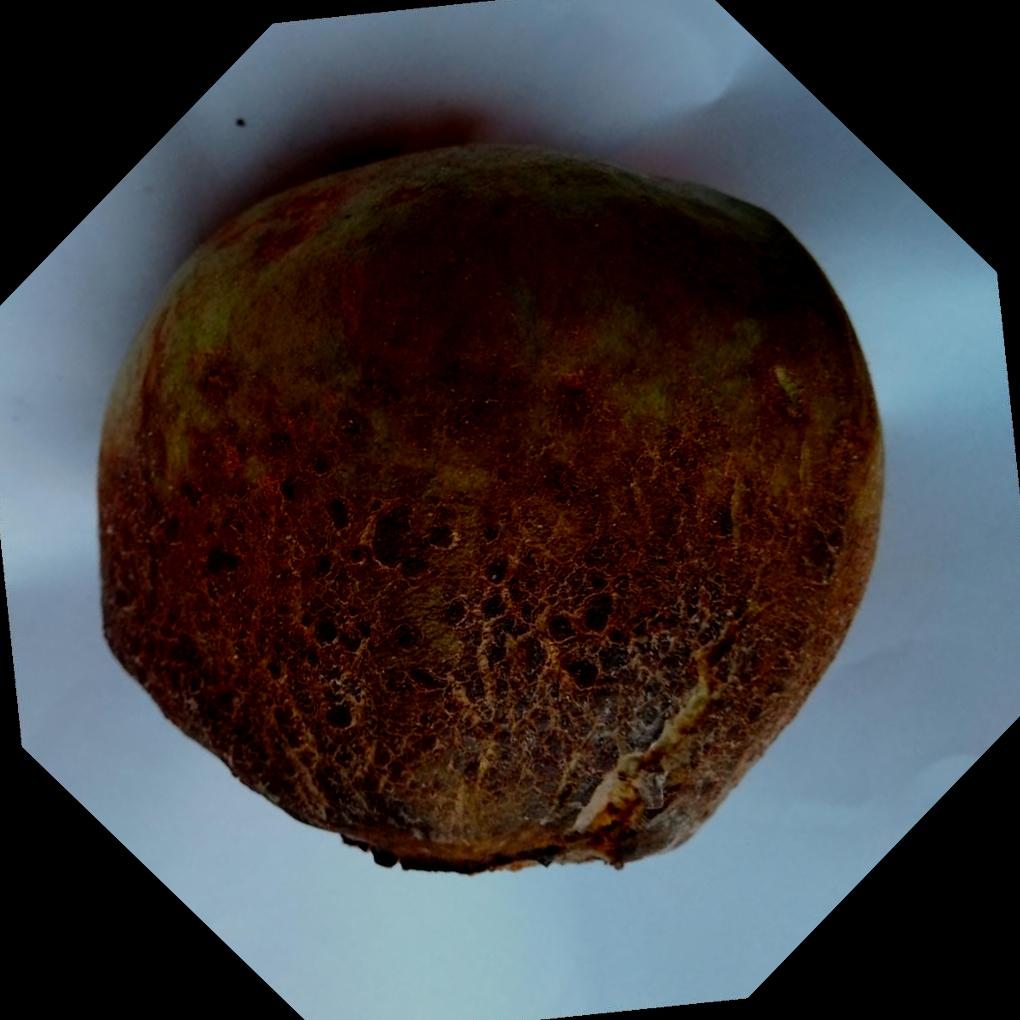FreshOrange: (95, 136, 890, 874)
